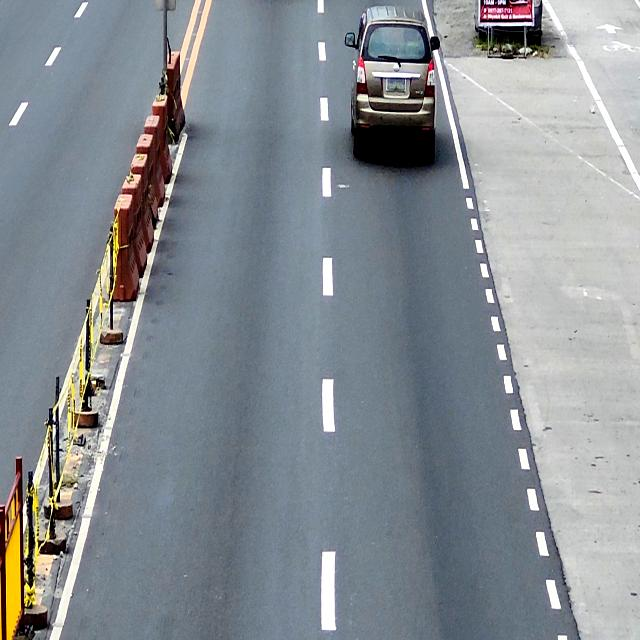Car: (346, 5, 440, 164)
License-Plate: (386, 78, 406, 93)
